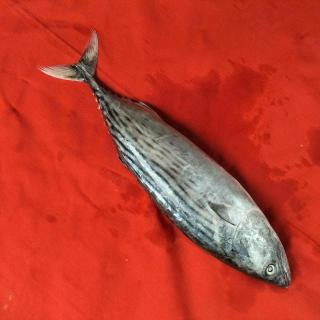Ikan: (56, 43, 302, 296)
